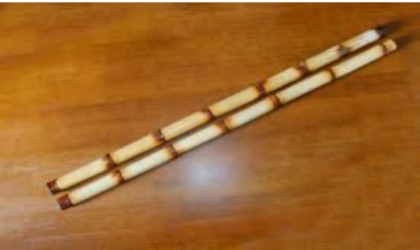baston_e: (73, 37, 385, 207), (57, 25, 372, 191)
baston_v: (50, 193, 77, 211), (40, 176, 64, 194), (369, 20, 394, 36), (383, 33, 401, 53)
